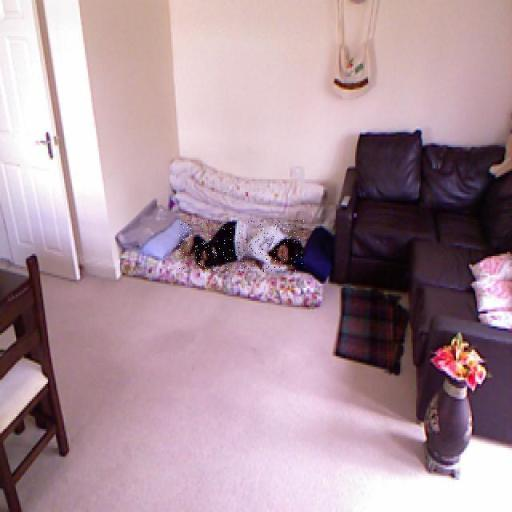Fall: (179, 220, 304, 273)
